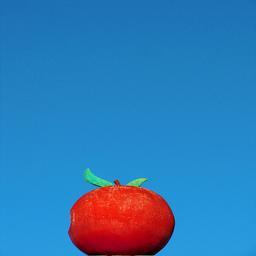apple: (68, 185, 176, 256)
